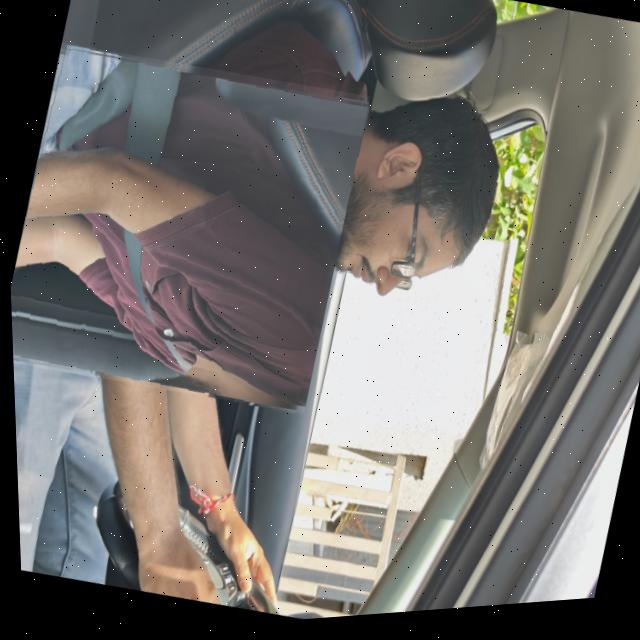seatbelt: (1, 25, 377, 434)
